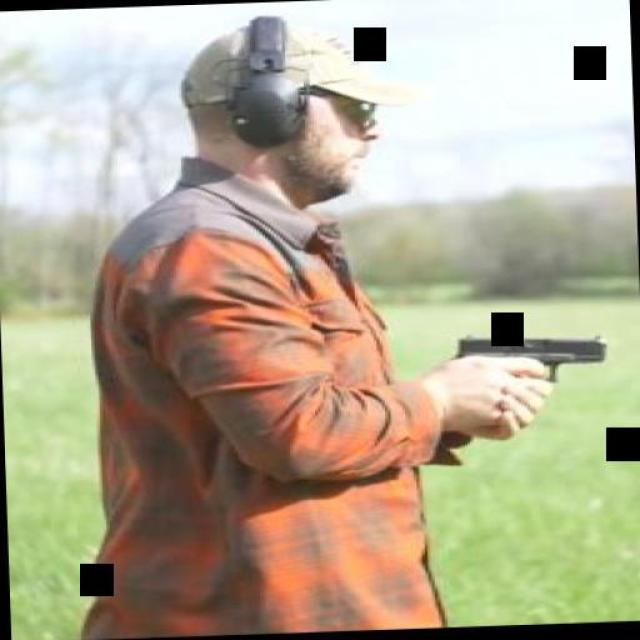gun: (445, 326, 611, 415)
